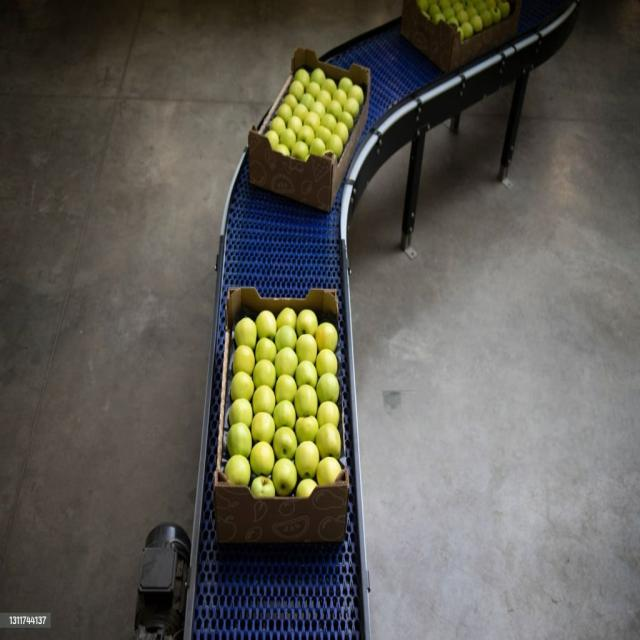food: (215, 280, 349, 560), (248, 46, 372, 203)
